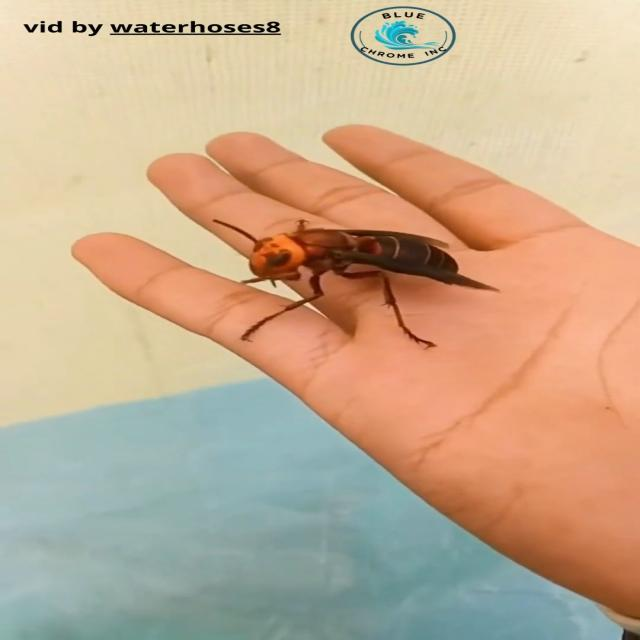Hornets: (206, 216, 505, 350)
